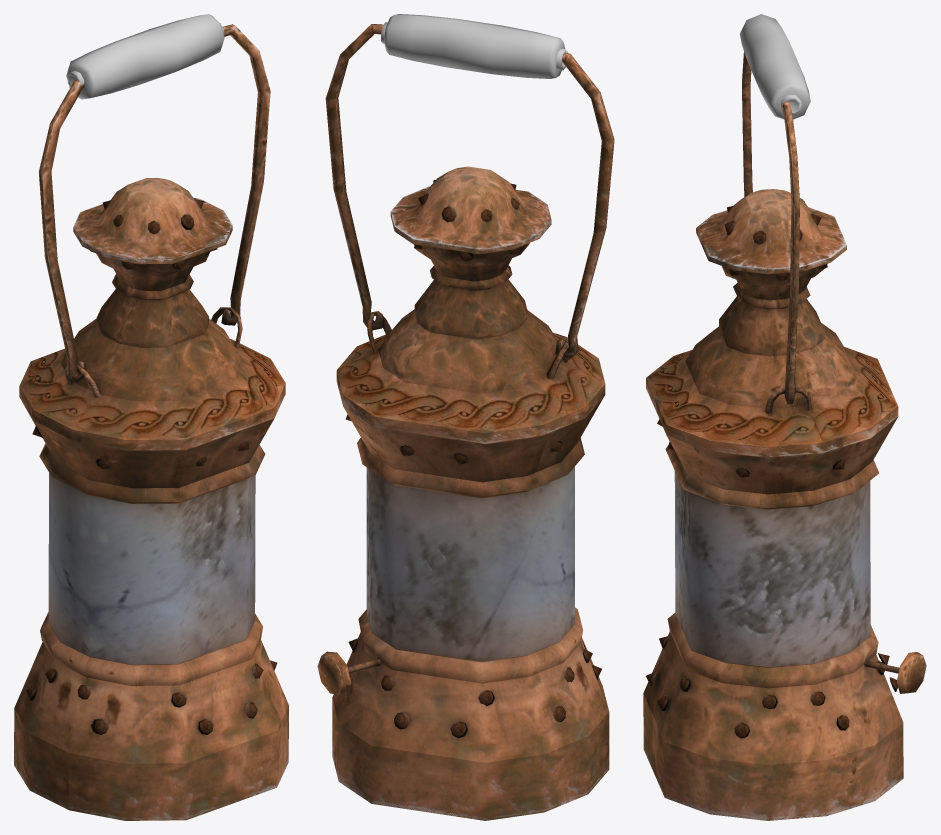
The model's file is LanternHand.fbx.
3 views of the same model, side by side, from view 1: azimuth 30°, elevation 25°; view 2: azimuth 150°, elevation 25°; view 3: azimuth 270°, elevation 25° (orthographic). The views are drawn at different scales.
Visible parts, largest first — view 1: lantern, handle_wood; view 2: lantern, handle_wood; view 3: lantern, handle_wood.
Boxes of the visible parts, x1,y1,x2,y2 form: lantern: [14, 24, 288, 820]; handle_wood: [66, 14, 224, 99]; lantern: [317, 24, 614, 820]; handle_wood: [381, 14, 567, 78]; lantern: [643, 52, 926, 820]; handle_wood: [740, 14, 810, 119].
Bounding box in the file's own units: 6.92 × 18.85 × 6.75.
